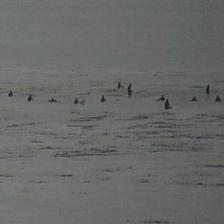surfer: (164, 99, 172, 109), (48, 98, 61, 104), (127, 83, 133, 94), (157, 94, 165, 102), (116, 82, 124, 88), (205, 84, 210, 93), (100, 95, 106, 102), (8, 90, 14, 97), (190, 96, 198, 101), (27, 94, 32, 102), (215, 96, 221, 102), (73, 98, 79, 104)
